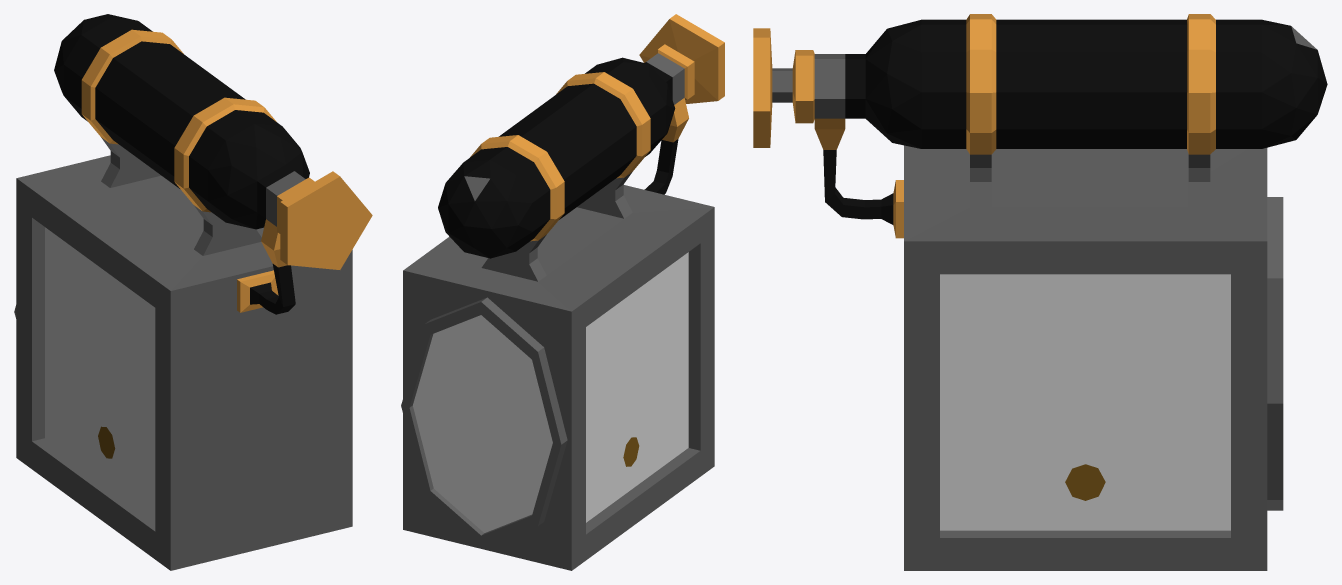
The model's file is canaryResuscitator.fbx.
3 views of the same model, side by side, from view 1: azimuth 30°, elevation 25°; view 2: azimuth 150°, elevation 25°; view 3: azimuth 270°, elevation 25° (orthographic). The views are drawn at different scales.
Visible parts, largest first — view 1: Icosphere; view 2: Icosphere; view 3: Icosphere.
Part boxes in pixels (x1=…): Icosphere: x1=14, y1=14, x2=372, y2=570; Icosphere: x1=401, y1=14, x2=724, y2=570; Icosphere: x1=753, y1=14, x2=1327, y2=570.
Bounding box in the file's own units: 136 × 303 × 316.
